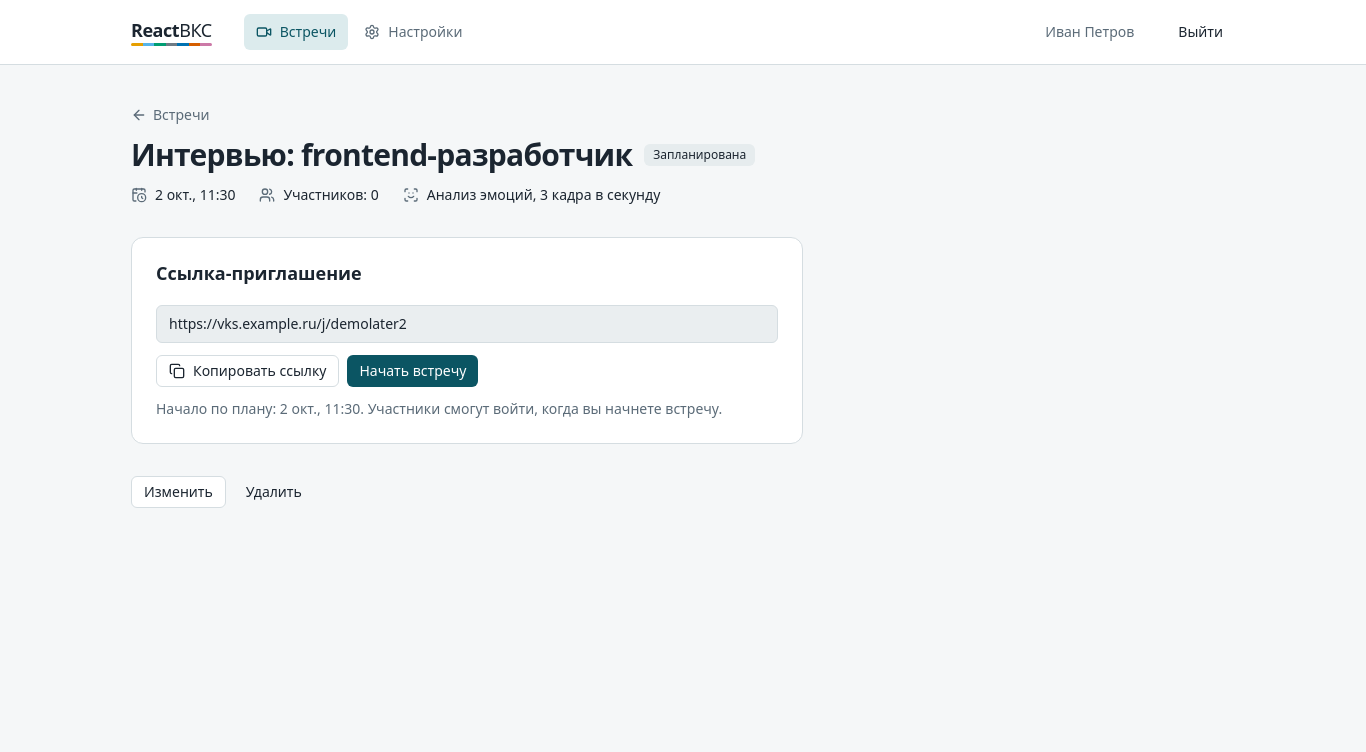
Test case: карточка встречи › управление › правка названия и параметров запланированной встречи
This screenshot has width=1366, height=752.
Click the button "Изменить".
click(178, 492)  # box [131,476,226,508]
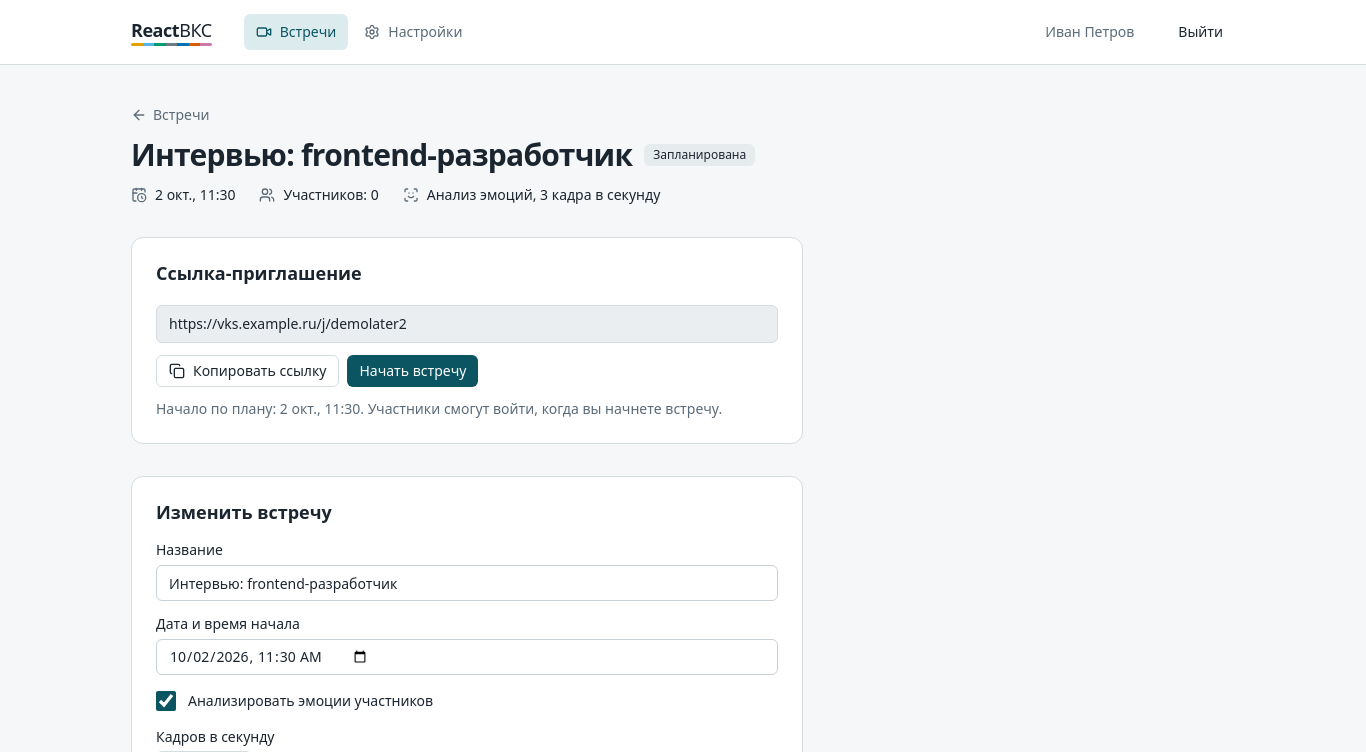
Replace the text in the field labelled "Название" with "Интервью: backend" at (467,583), box [156,565,778,601]
(page scrolled)
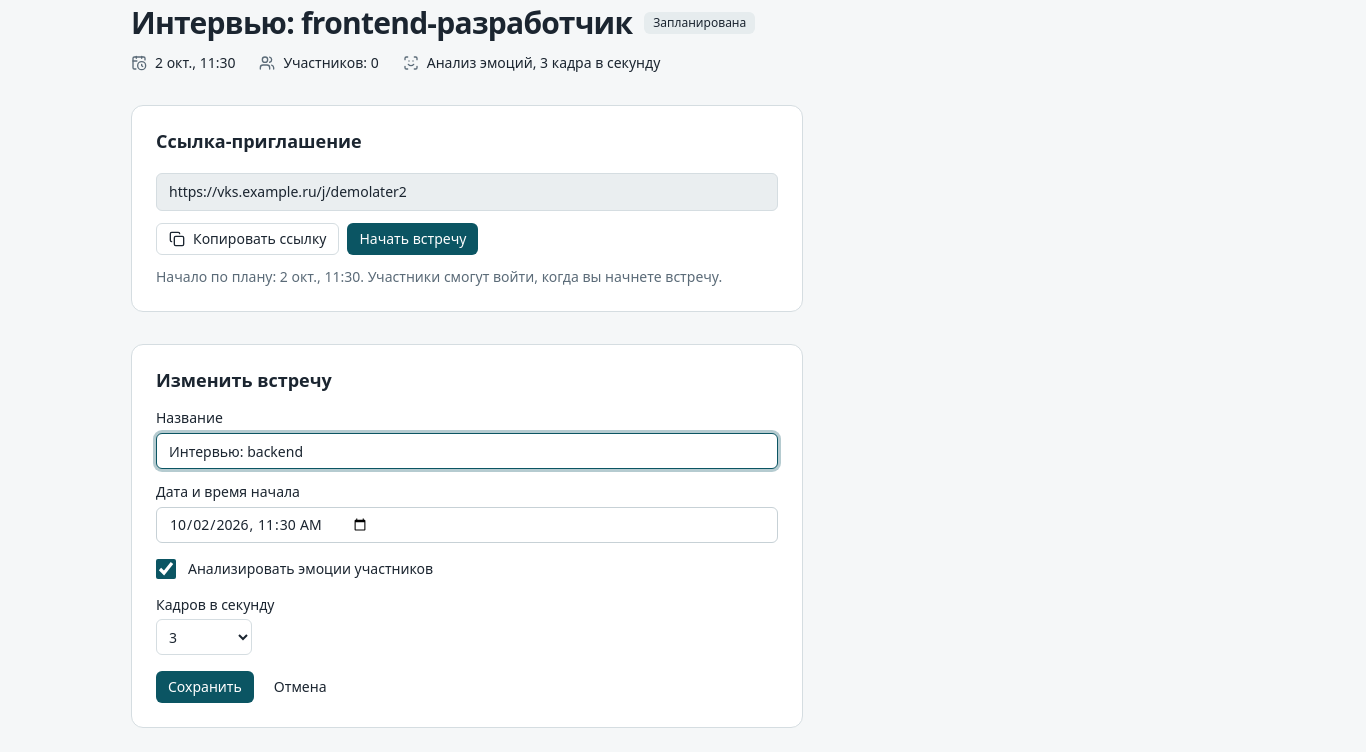
Select "5" in the dropdown labelled "Кадров в секунду" at (204,637), box [156,619,252,655]
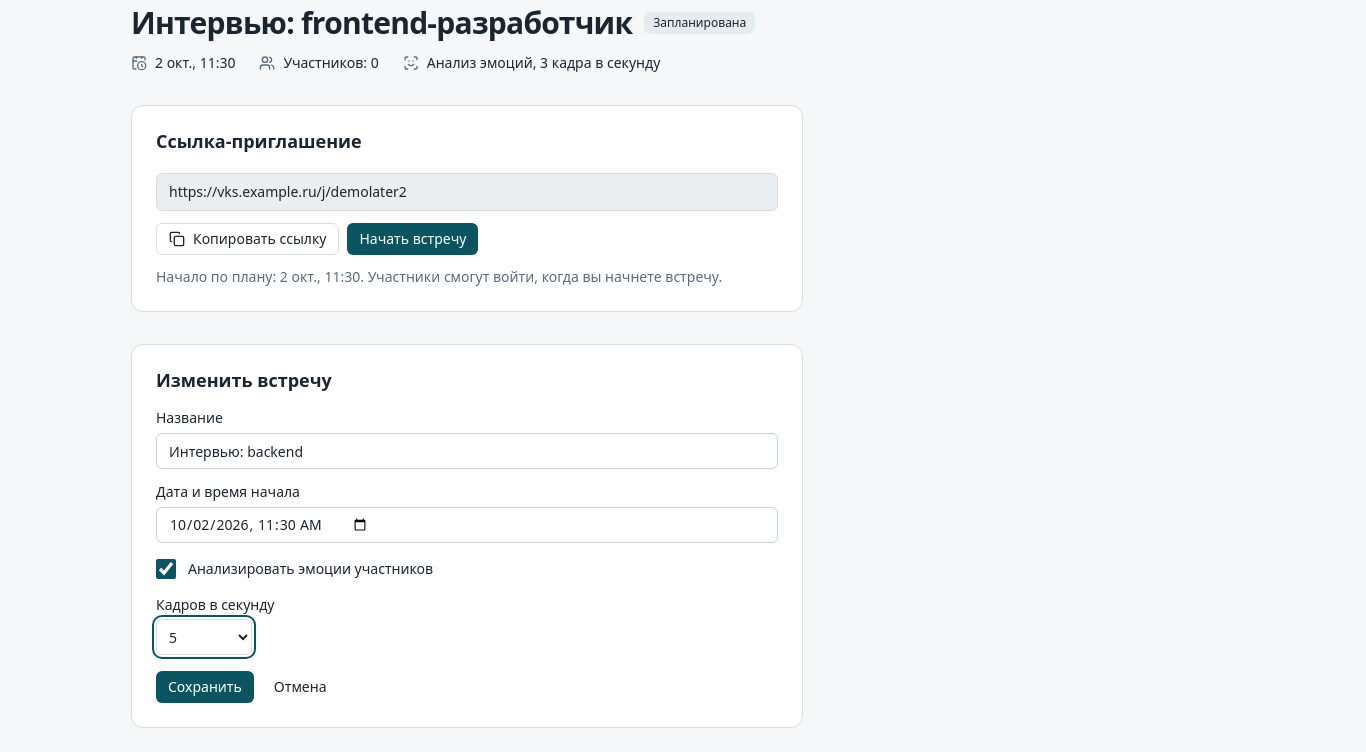
Click the button "Сохранить".
click(205, 687)  # box [156,671,254,703]
(page scrolled)
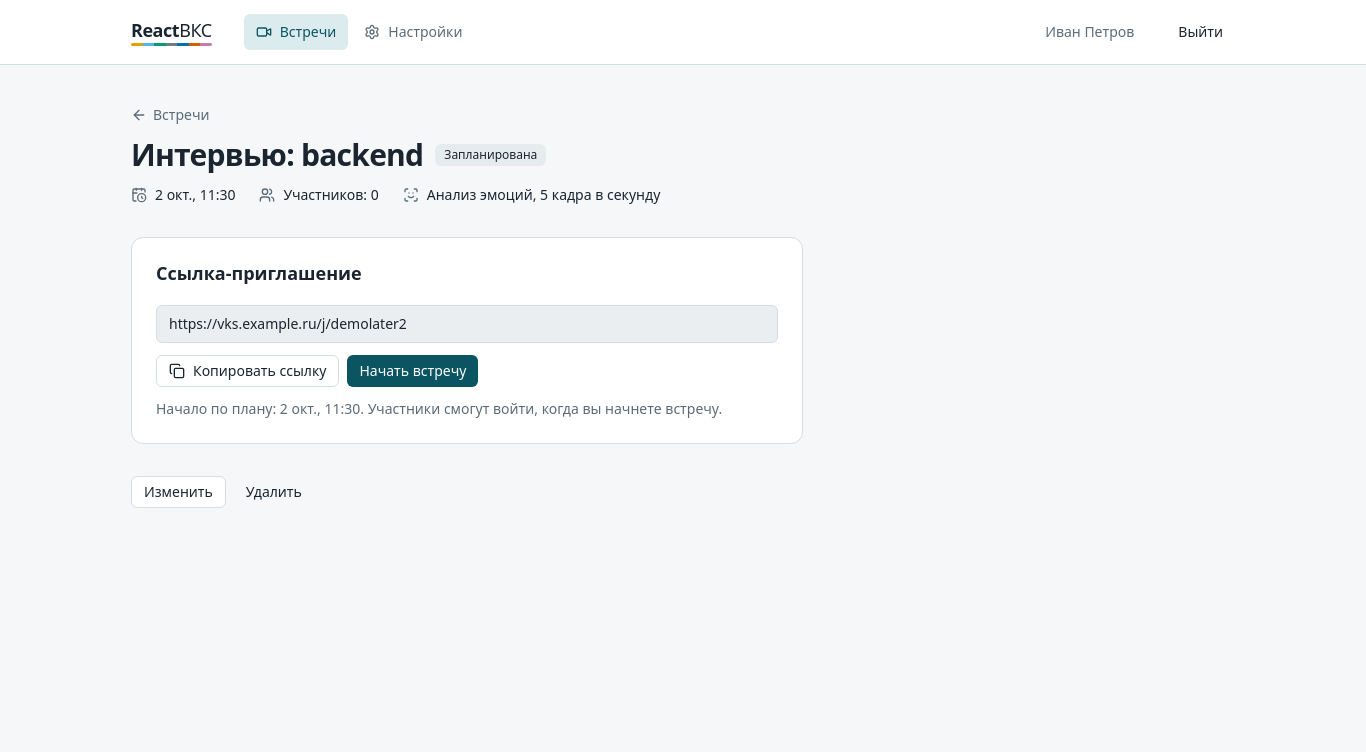
Expected: the heading "Интервью: backend" is shown, [131,137,423,173]
